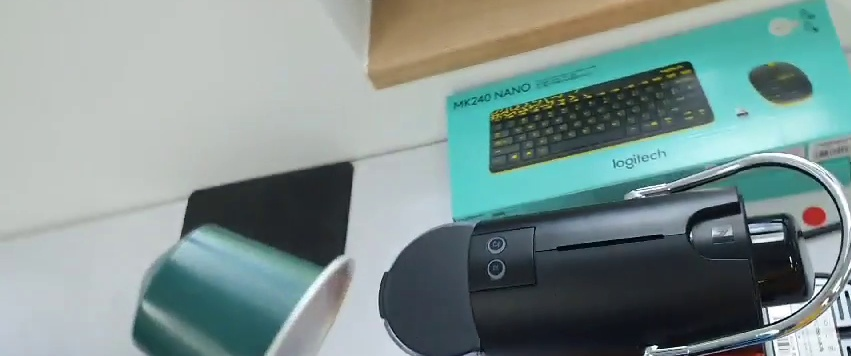capsule_13: (131, 221, 357, 356)
